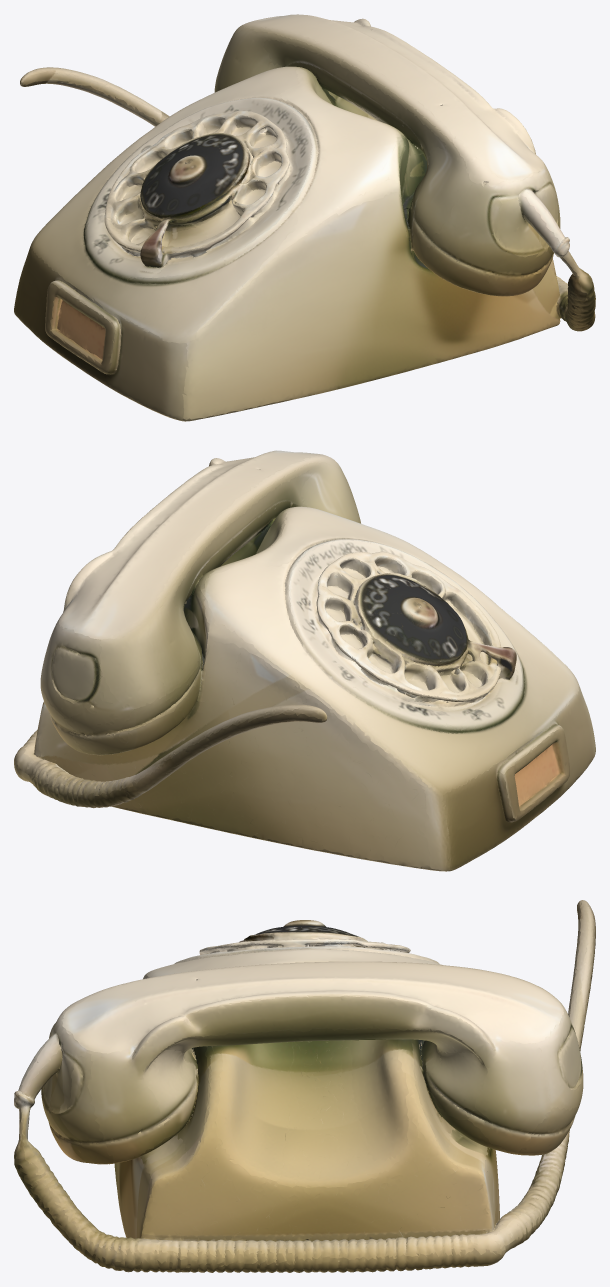
Rendered from source.glb.
3 renders of one model, top to bottom at view 1: azimuth 30°, elevation 25°; view 2: azimuth 150°, elevation 25°; view 3: azimuth 270°, elevation 25°, orthographic. The views are drawn at different scales.
Parts seen in each view (by area): view 1: geometry_0; view 2: geometry_0; view 3: geometry_0.
Boxes of the visible parts, left/top/right/bottom form: geometry_0: left=14, top=14, right=595, bottom=421; geometry_0: left=14, top=450, right=595, bottom=871; geometry_0: left=14, top=900, right=595, bottom=1272.
Size of the model in its own units: 0.24 by 0.1209 by 0.2553.
1 material, 1 textured.
